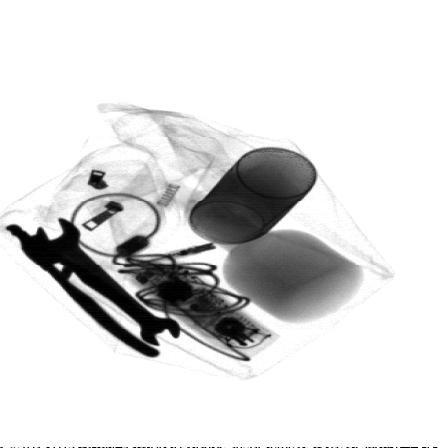Pliers: (7, 225, 166, 359)
Wrench: (35, 216, 181, 344)
